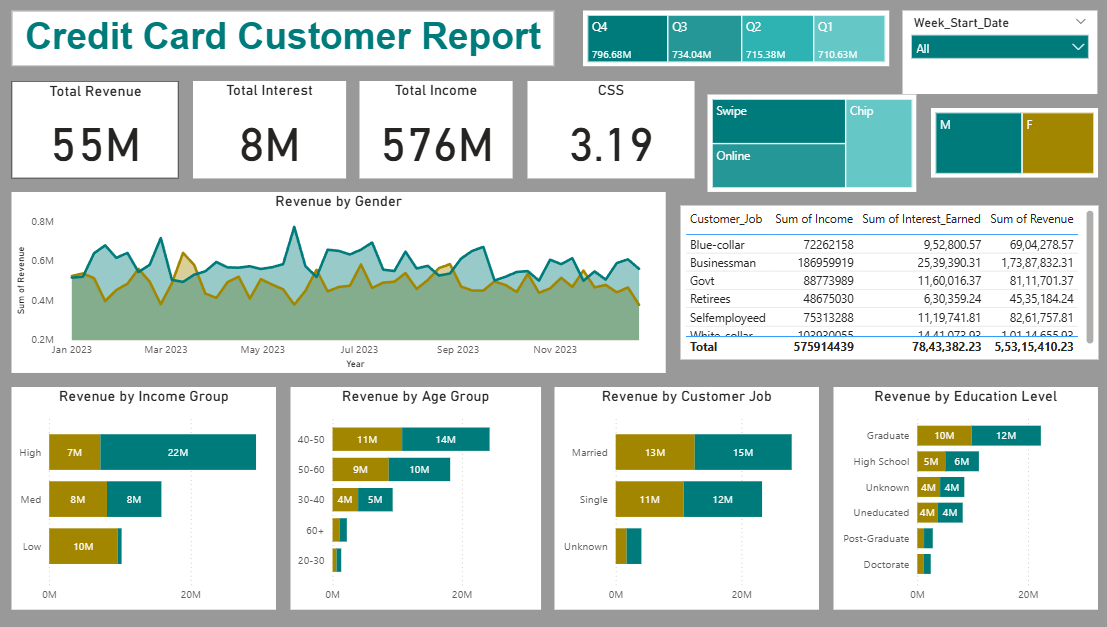

This screenshot's page, from the dashboard's own definition file:
{"tool":"powerbi","page":{"name":"Page 2","canvas":[1279,729],"ordinal":1},"visuals":[{"type":"textbox","box":[16,16,624,64],"z":0},{"type":"barChart","title":"Revenue by Income Group","fields":{"Category":["cust_detail.IncomeGroup"],"Y":["Sum(cc_detail.Revenue)"],"Series":["cust_detail.Gender"]},"box":[16,448,304,256],"z":1000},{"type":"tableEx","fields":{"Values":["cust_detail.Customer_Job","Sum(cust_detail.Income)","Sum(cc_detail.Interest_Earned)","Sum(cc_detail.Revenue)"]},"box":[784,240,480,176],"z":2000},{"type":"card","title":"Total Revenue","fields":{"Values":["Sum(cc_detail.Revenue)"]},"box":[16,96,192,112],"z":3000},{"type":"card","title":"Total Interest","fields":{"Values":["Sum(cc_detail.Interest_Earned)"]},"box":[224,96,176,112],"z":4000},{"type":"card","title":"Total Income","fields":{"Values":["Sum(cust_detail.Income)"]},"box":[416,96,176,112],"z":5000},{"type":"card","title":"CSS","fields":{"Values":["Avg(cust_detail.Cust_Satisfaction_Score)"]},"box":[608,96,192,112],"z":6000},{"type":"slicer","fields":{"Values":["cc_detail.Week_Start_Date"]},"box":[1040,16,224,96],"z":7000},{"type":"treemap","fields":{"Group":["cc_detail.Qtr"],"Values":["Avg(cc_detail.Client_Num)"]},"box":[672,16,352,64],"z":8000},{"type":"treemap","fields":{"Group":["cust_detail.Gender"],"Values":["Sum(cc_detail.Revenue)"]},"box":[1072,128,192,80],"z":9000},{"type":"treemap","fields":{"Values":["Avg(cc_detail.Client_Num)"],"Group":["cc_detail.Use_Chip"]},"box":[816,112,240,112],"z":10000},{"type":"lineChart","title":"Revenue by Gender","fields":{"Y":["Sum(cc_detail.Revenue)"],"Series":["cust_detail.Gender"],"Category":["cc_detail.Week_Start_Date.Variation.Date Hierarchy.Year","cc_detail.Week_Start_Date.Variation.Date Hierarchy.Month","cc_detail.Week_Start_Date.Variation.Date Hierarchy.Day"]},"box":[16,224,752,208],"z":11000},{"type":"barChart","title":"Revenue by Age Group","fields":{"Y":["Sum(cc_detail.Revenue)"],"Category":["cust_detail.AgeGroup"],"Series":["cust_detail.Gender"]},"box":[336,448,288,256],"z":12000},{"type":"barChart","title":"Revenue by Customer Job","fields":{"Y":["Sum(cc_detail.Revenue)"],"Category":["cust_detail.Marital_Status"],"Series":["cust_detail.Gender"]},"box":[640,448,304,256],"z":13000},{"type":"barChart","title":"Revenue by Education Level","fields":{"Y":["Sum(cc_detail.Revenue)"],"Category":["cust_detail.Education_Level"],"Series":["cust_detail.Gender"]},"box":[960,448,304,256],"z":14000}]}

Visuals, with their boxes in screenshot pixels (x1, y1, x2, y2), scaled from the page's 1279x729 canvas onto the 1107x627 screenshot:
textbox: l=14, t=14, r=554, b=69
"Revenue by Income Group" barChart: l=14, t=385, r=277, b=605
tableEx - cust_detail.Customer_Job x Sum(cust_detail.Income): l=679, t=206, r=1094, b=358
"Total Revenue" card: l=14, t=83, r=180, b=179
"Total Interest" card: l=194, t=83, r=346, b=179
"Total Income" card: l=360, t=83, r=512, b=179
"CSS" card: l=526, t=83, r=692, b=179
slicer - cc_detail.Week_Start_Date: l=900, t=14, r=1094, b=96
treemap - cc_detail.Qtr x Avg(cc_detail.Client_Num): l=582, t=14, r=886, b=69
treemap - cust_detail.Gender x Sum(cc_detail.Revenue): l=928, t=110, r=1094, b=179
treemap - Avg(cc_detail.Client_Num) x cc_detail.Use_Chip: l=706, t=96, r=914, b=193
"Revenue by Gender" lineChart: l=14, t=193, r=665, b=372
"Revenue by Age Group" barChart: l=291, t=385, r=540, b=605
"Revenue by Customer Job" barChart: l=554, t=385, r=817, b=605
"Revenue by Education Level" barChart: l=831, t=385, r=1094, b=605
